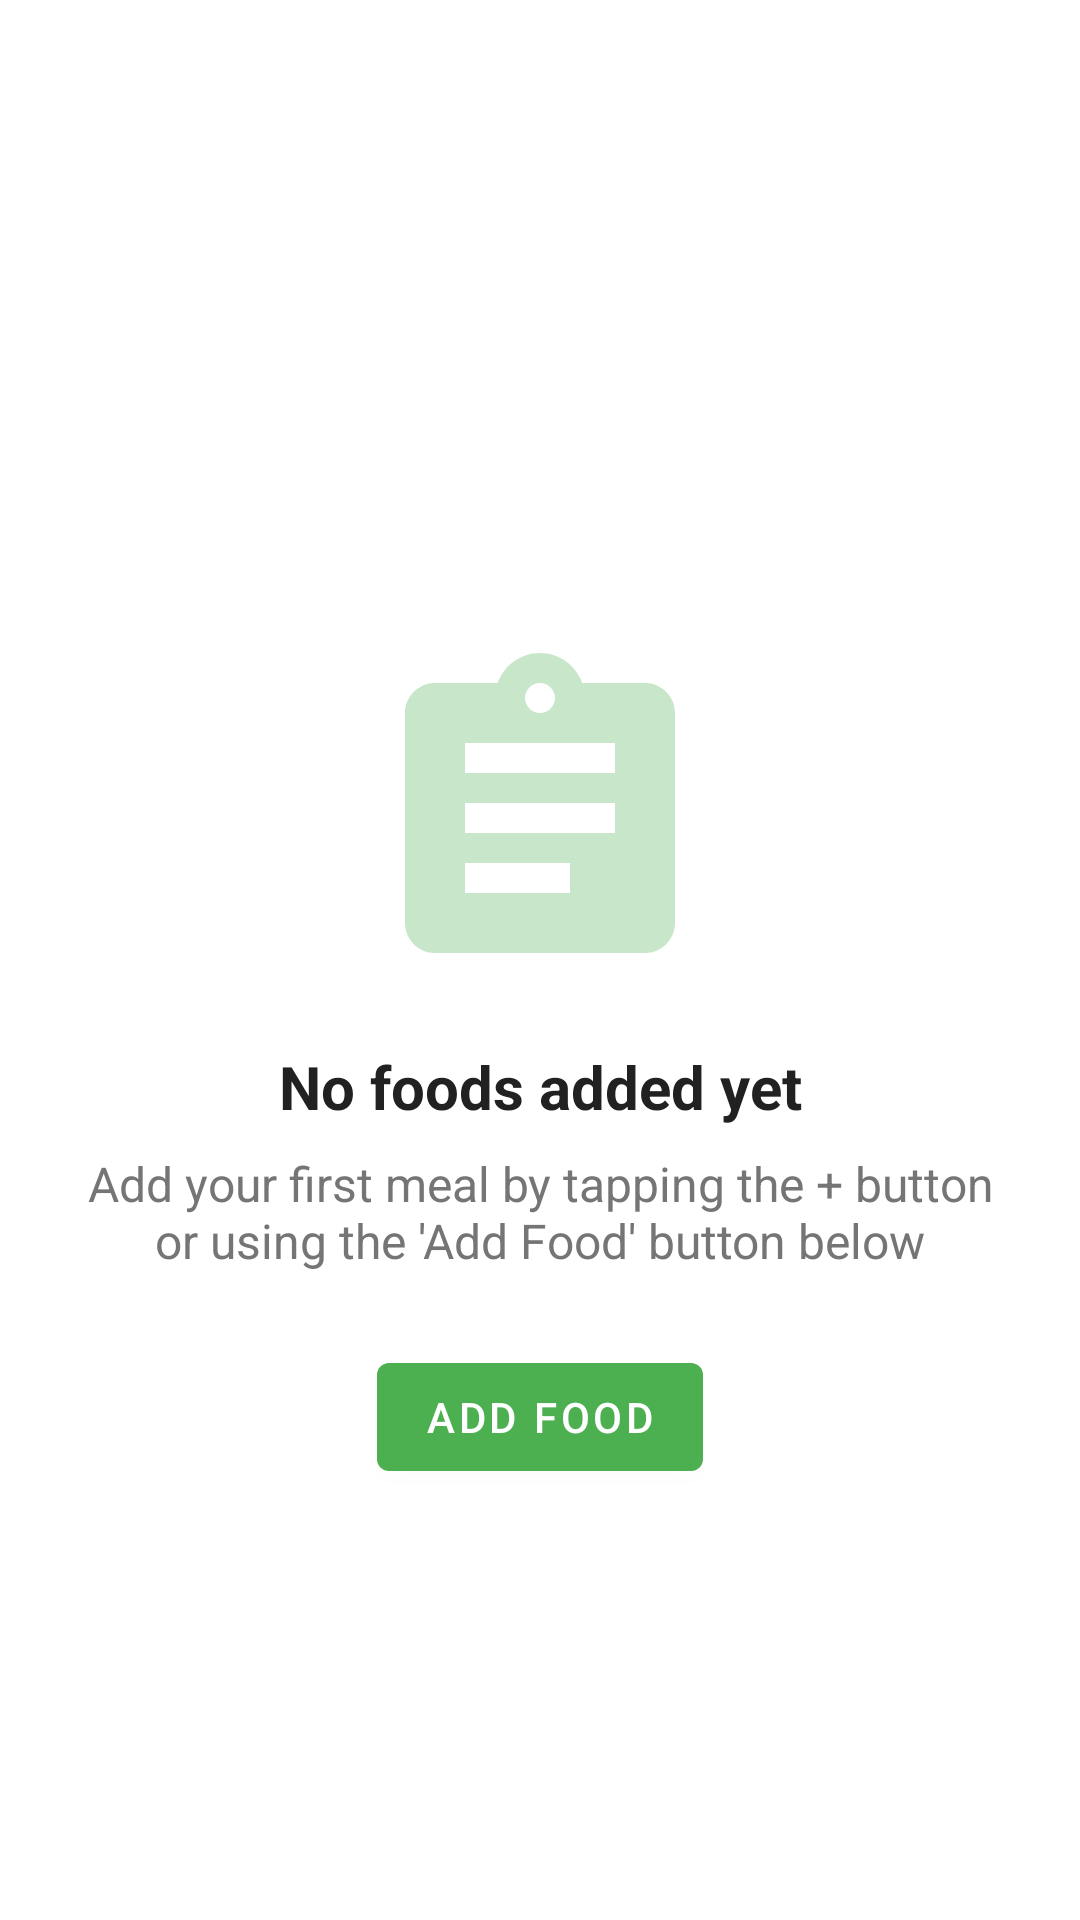

Where to tap for icons on this 1080 x 1920 app screen, as [x,y]:
No entries: [540,803]
